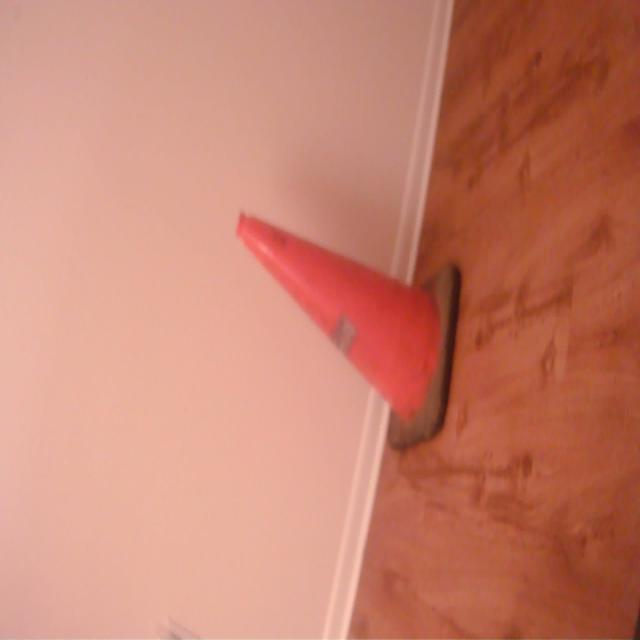traffic cone: (234, 207, 465, 458)
